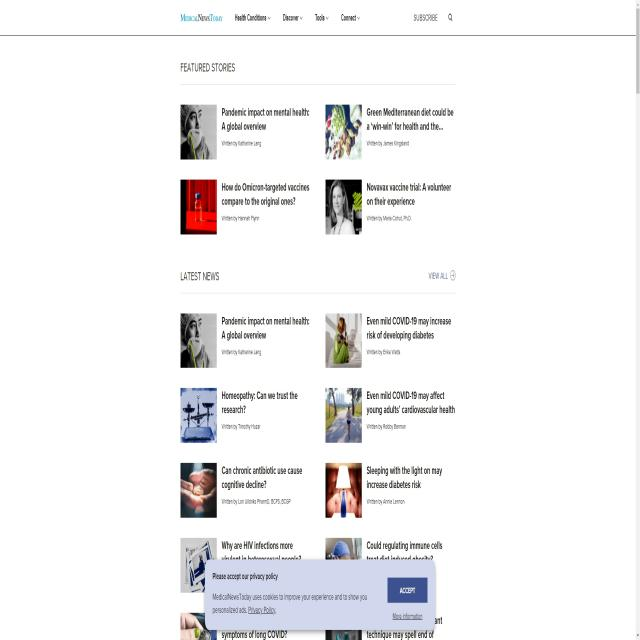menu-bar: (410, 2, 464, 30)
